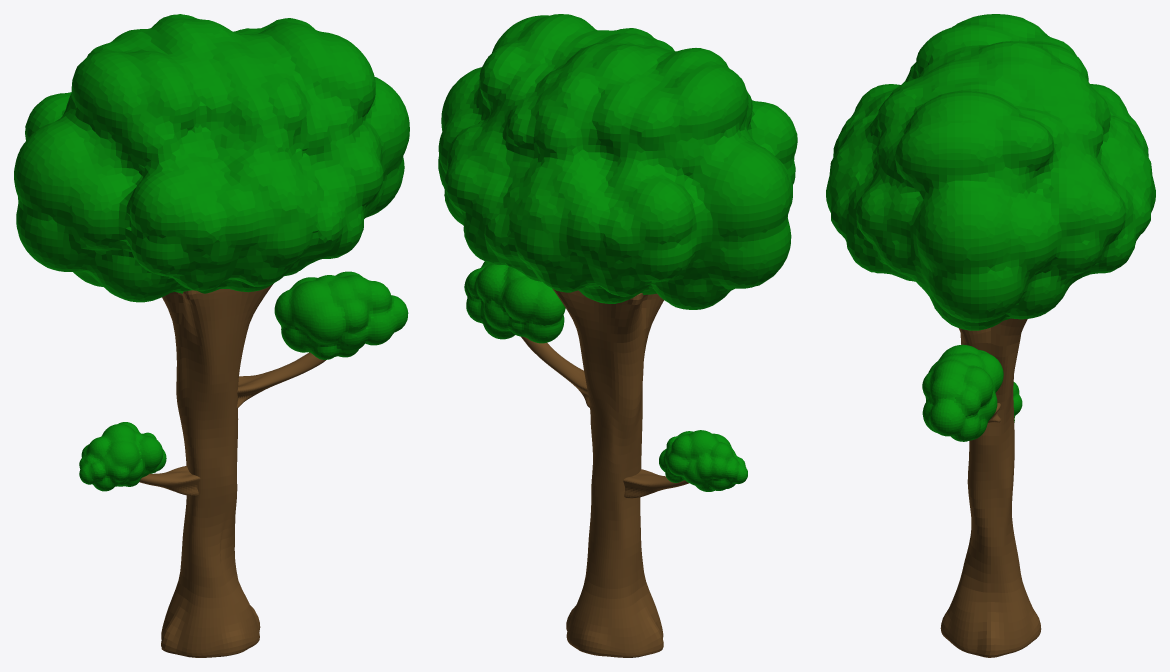
The model's file is Chapple Tree.glb.
3 views of the same model, side by side, from view 1: azimuth 30°, elevation 25°; view 2: azimuth 150°, elevation 25°; view 3: azimuth 270°, elevation 25° (orthographic). The views are drawn at different scales.
Parts seen in each view (by area): view 1: Tree Leafs, Tree, Tree Branch Leafs, Sphere.001, Tree Branch, Tree Branch.001; view 2: Tree Leafs, Tree, Tree Branch Leafs, Sphere.001, Tree Branch, Tree Branch.001; view 3: Tree Leafs, Tree, Tree Branch Leafs.
Boxes of the visible parts, x1,y1,x2,y2 form: Tree Leafs: (14,14,409,302); Tree: (161,284,272,657); Tree Branch Leafs: (274,271,408,359); Sphere.001: (79,422,166,491); Tree Branch: (236,352,325,408); Tree Branch.001: (139,466,200,495); Tree Leafs: (438,14,797,309); Tree: (552,288,663,657); Tree Branch Leafs: (464,261,565,343); Sphere.001: (659,430,747,491); Tree Branch: (520,336,589,407); Tree Branch.001: (623,469,688,498); Tree Leafs: (826,14,1155,330); Tree: (940,318,1041,657); Tree Branch Leafs: (922,344,1003,441).
Size of the model in its own units: 3.9 by 6.32 by 3.22.
